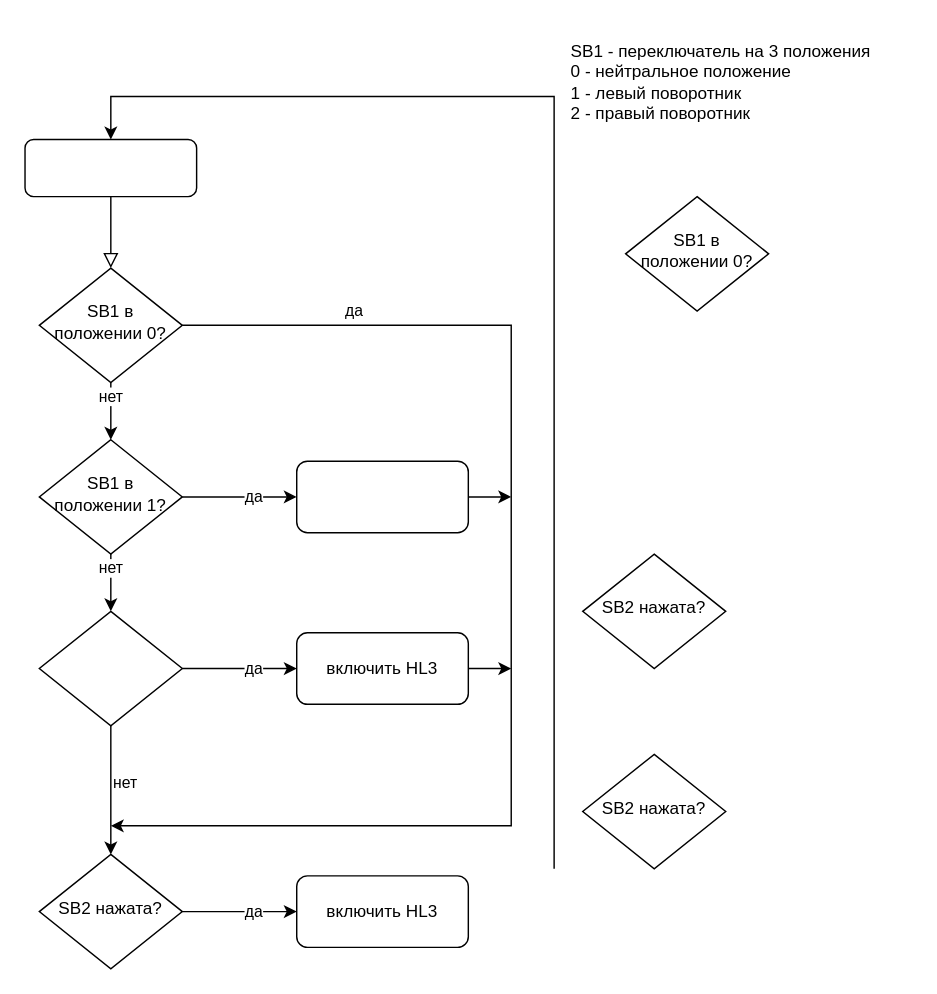
The diagram is 937 pixels wide and 994 high, and some of its shapes have lost their labels. The centre of each missing label's shape, as x and y in pixels:
SB1 в положении 2?: (x=110, y=668)
включить HL2: (x=381, y=496)
начало: (x=110, y=167)
